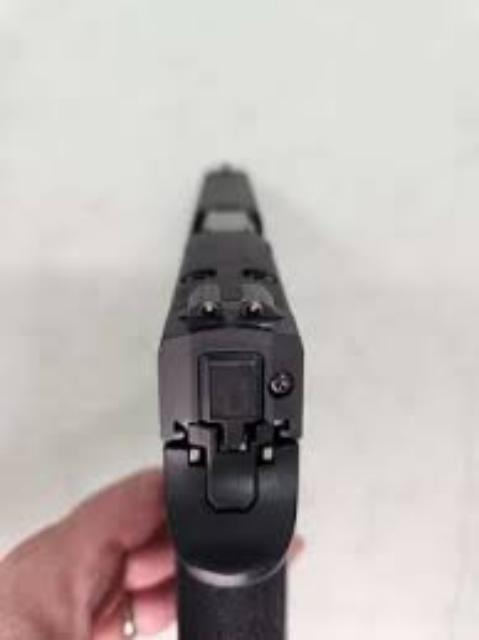handgun: (150, 156, 312, 640)
